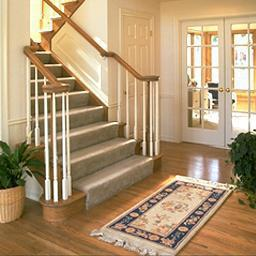Escaleras: (26, 27, 163, 201)
Matera: (2, 143, 39, 223), (227, 135, 255, 205)
Puerta: (179, 22, 253, 146), (120, 13, 161, 134)
